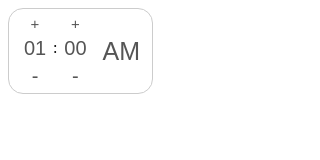
Test: TimeInput – stepping › increments and decrements the hour
Click the 1st button "+" at (35, 23), box top-left (17, 11), bottom-right (53, 36)
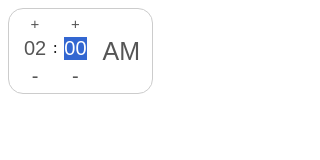
Expected: the 1st field with placeholder "--" holds "02", top-left (17, 36), bottom-right (53, 61)
Click the 1st button "-" at (35, 76), box top-left (17, 61), bottom-right (53, 92)
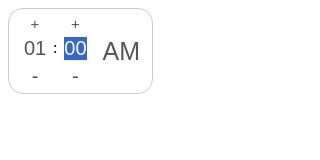
Expected: the 1st field with placeholder "--" holds "01", top-left (17, 36), bottom-right (53, 61)
